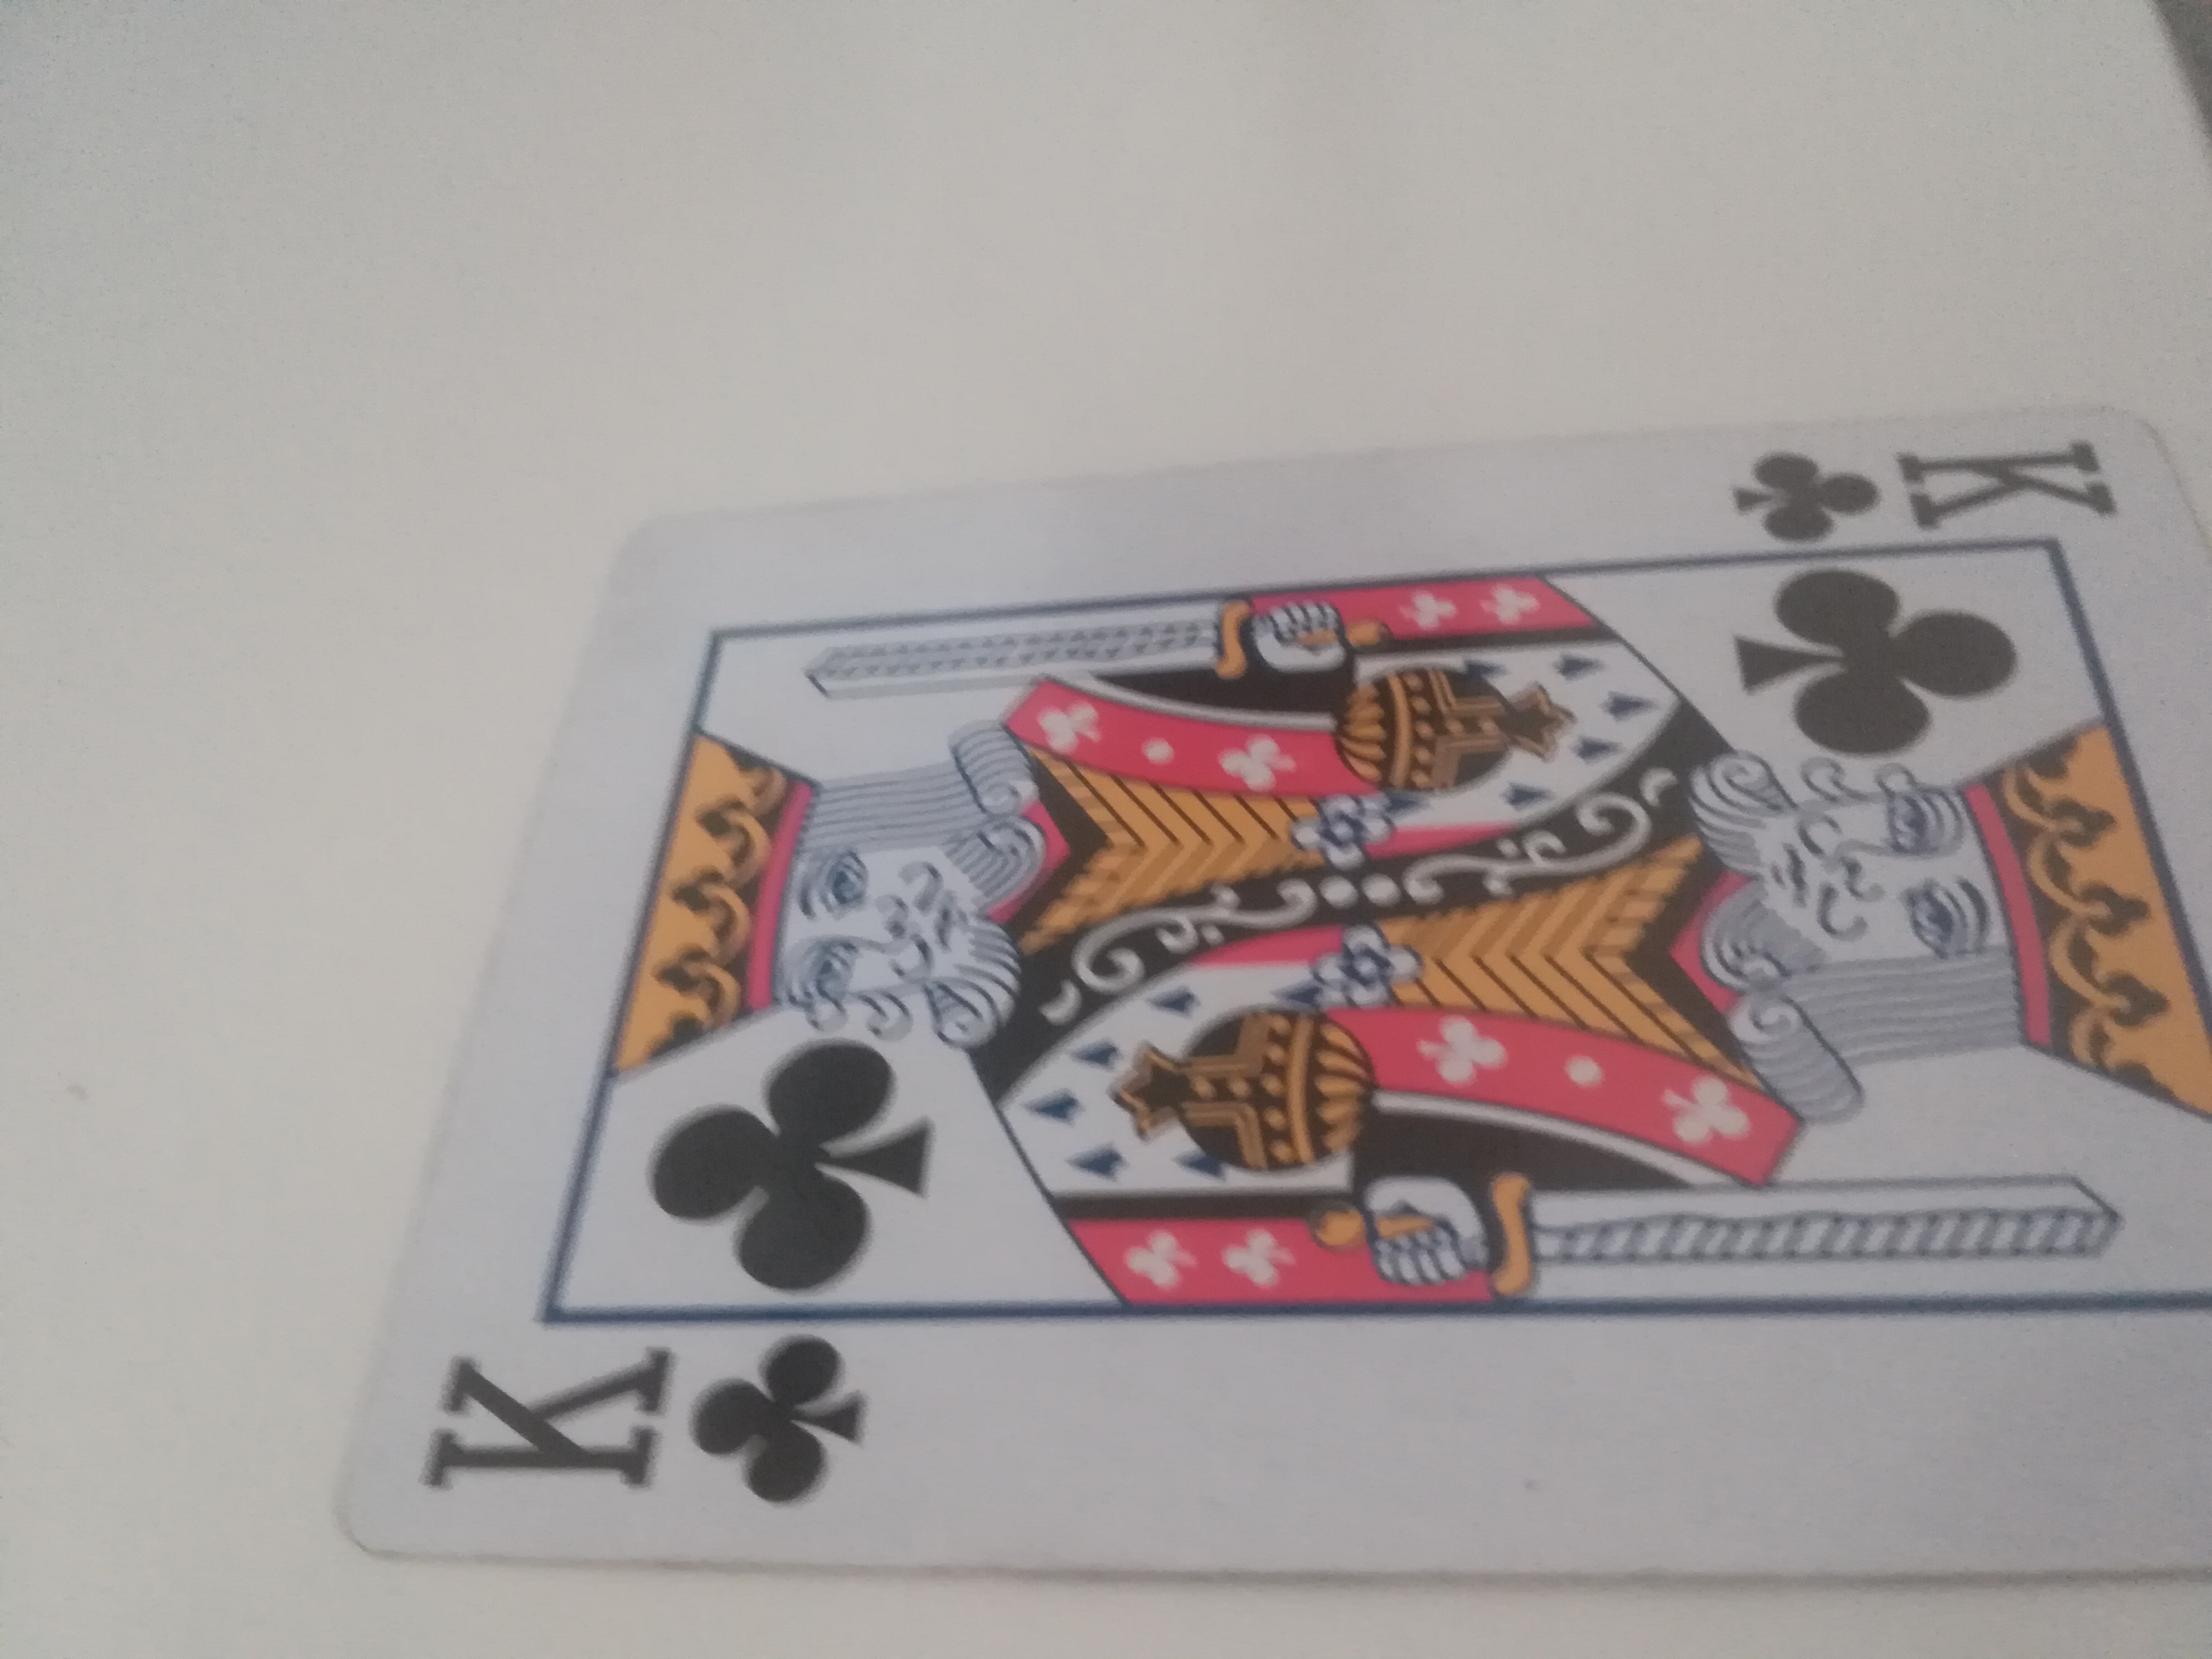KC: (324, 415, 2212, 1591)
